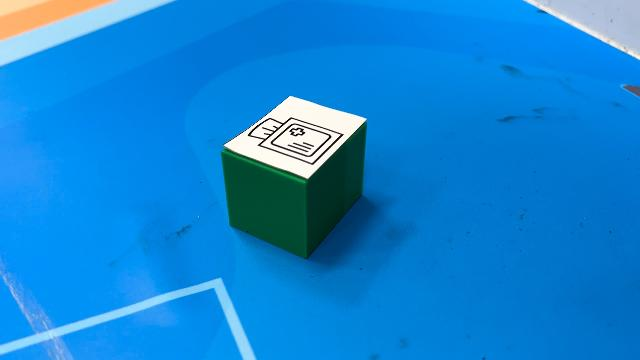napkin: (220, 94, 368, 260)
